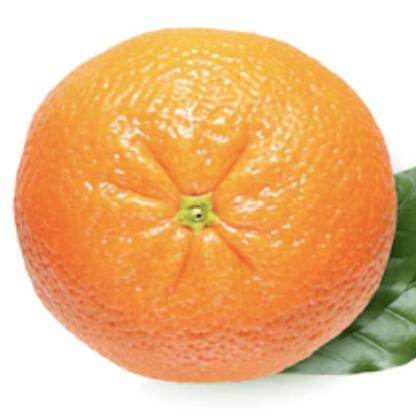fresh: (14, 26, 397, 385)
